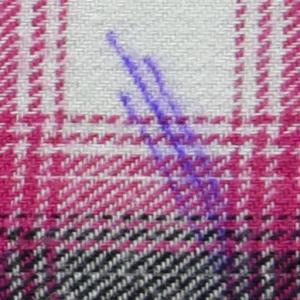Stain: (103, 26, 247, 300)
